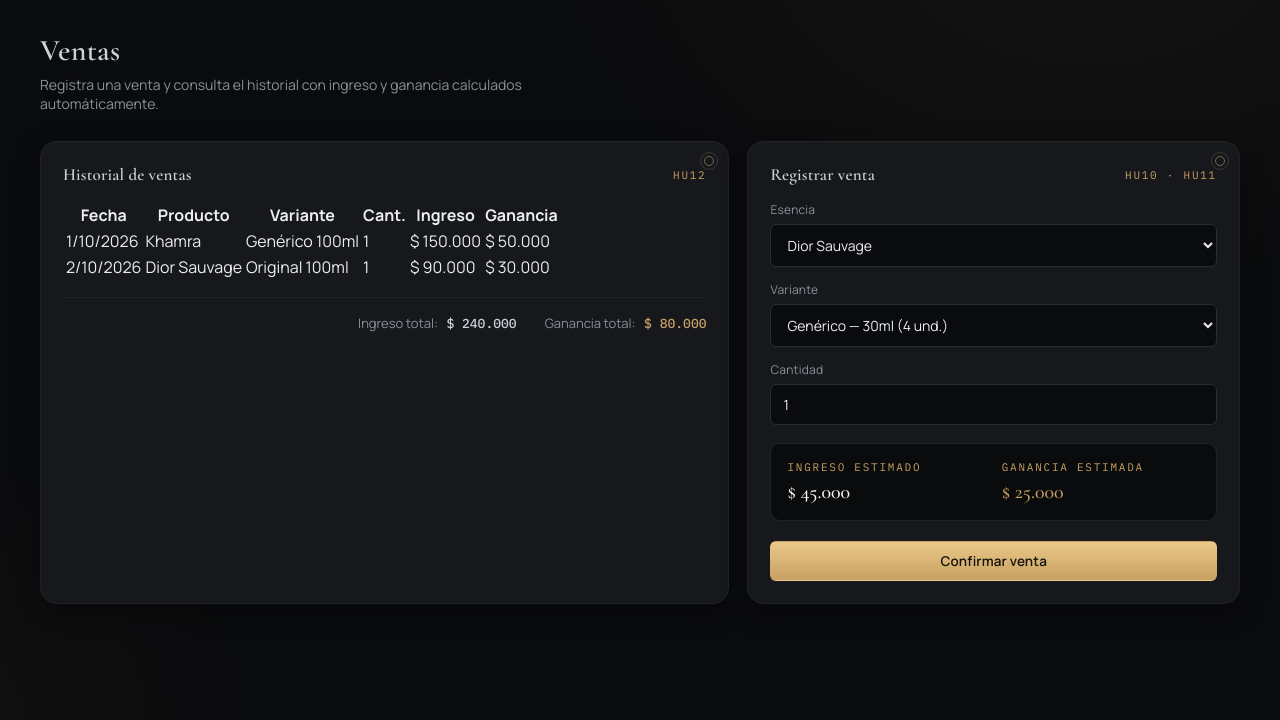
Test: Ventas: formulario › registra la venta, avisa y recarga los datos
Expected: the heading "Historial de ventas" is shown, [63,164,192,185]
Replace the text in the number field with "2" at (994, 404), box [770,384,1217,425]
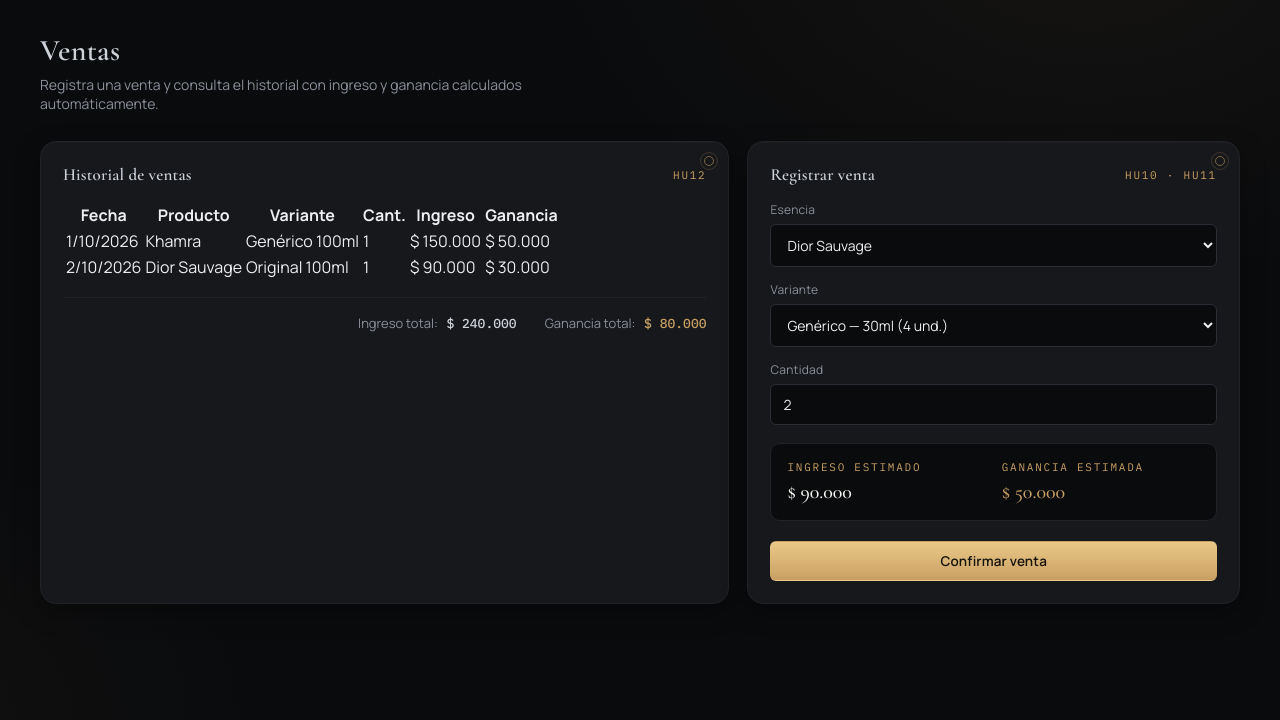
Submit the text "Confirmar venta", box [770,201,1217,581]
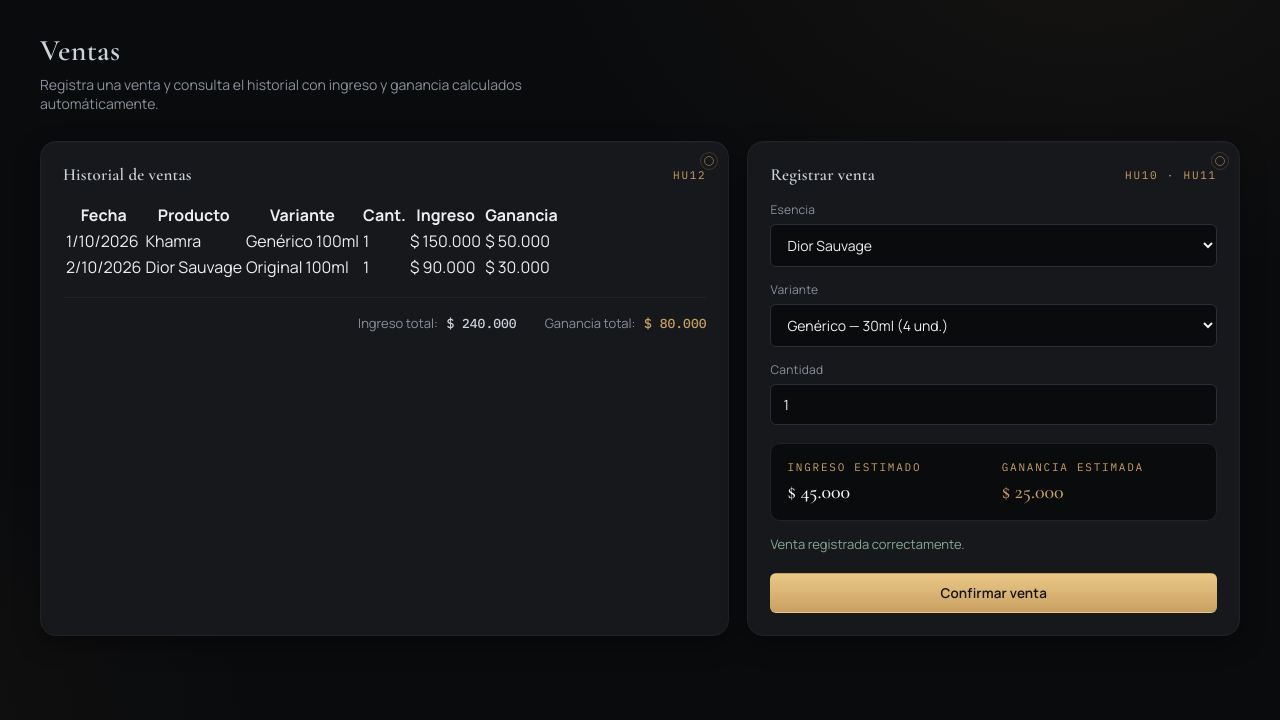
Now the text "Venta registrada correctamente." is shown, box [770,535,965,553]
Now the number field holds "1", box [770,384,1217,425]
